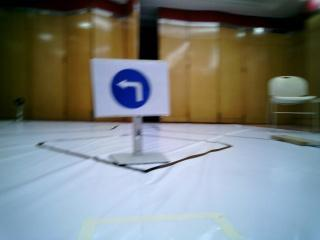left: (87, 60, 170, 113)
